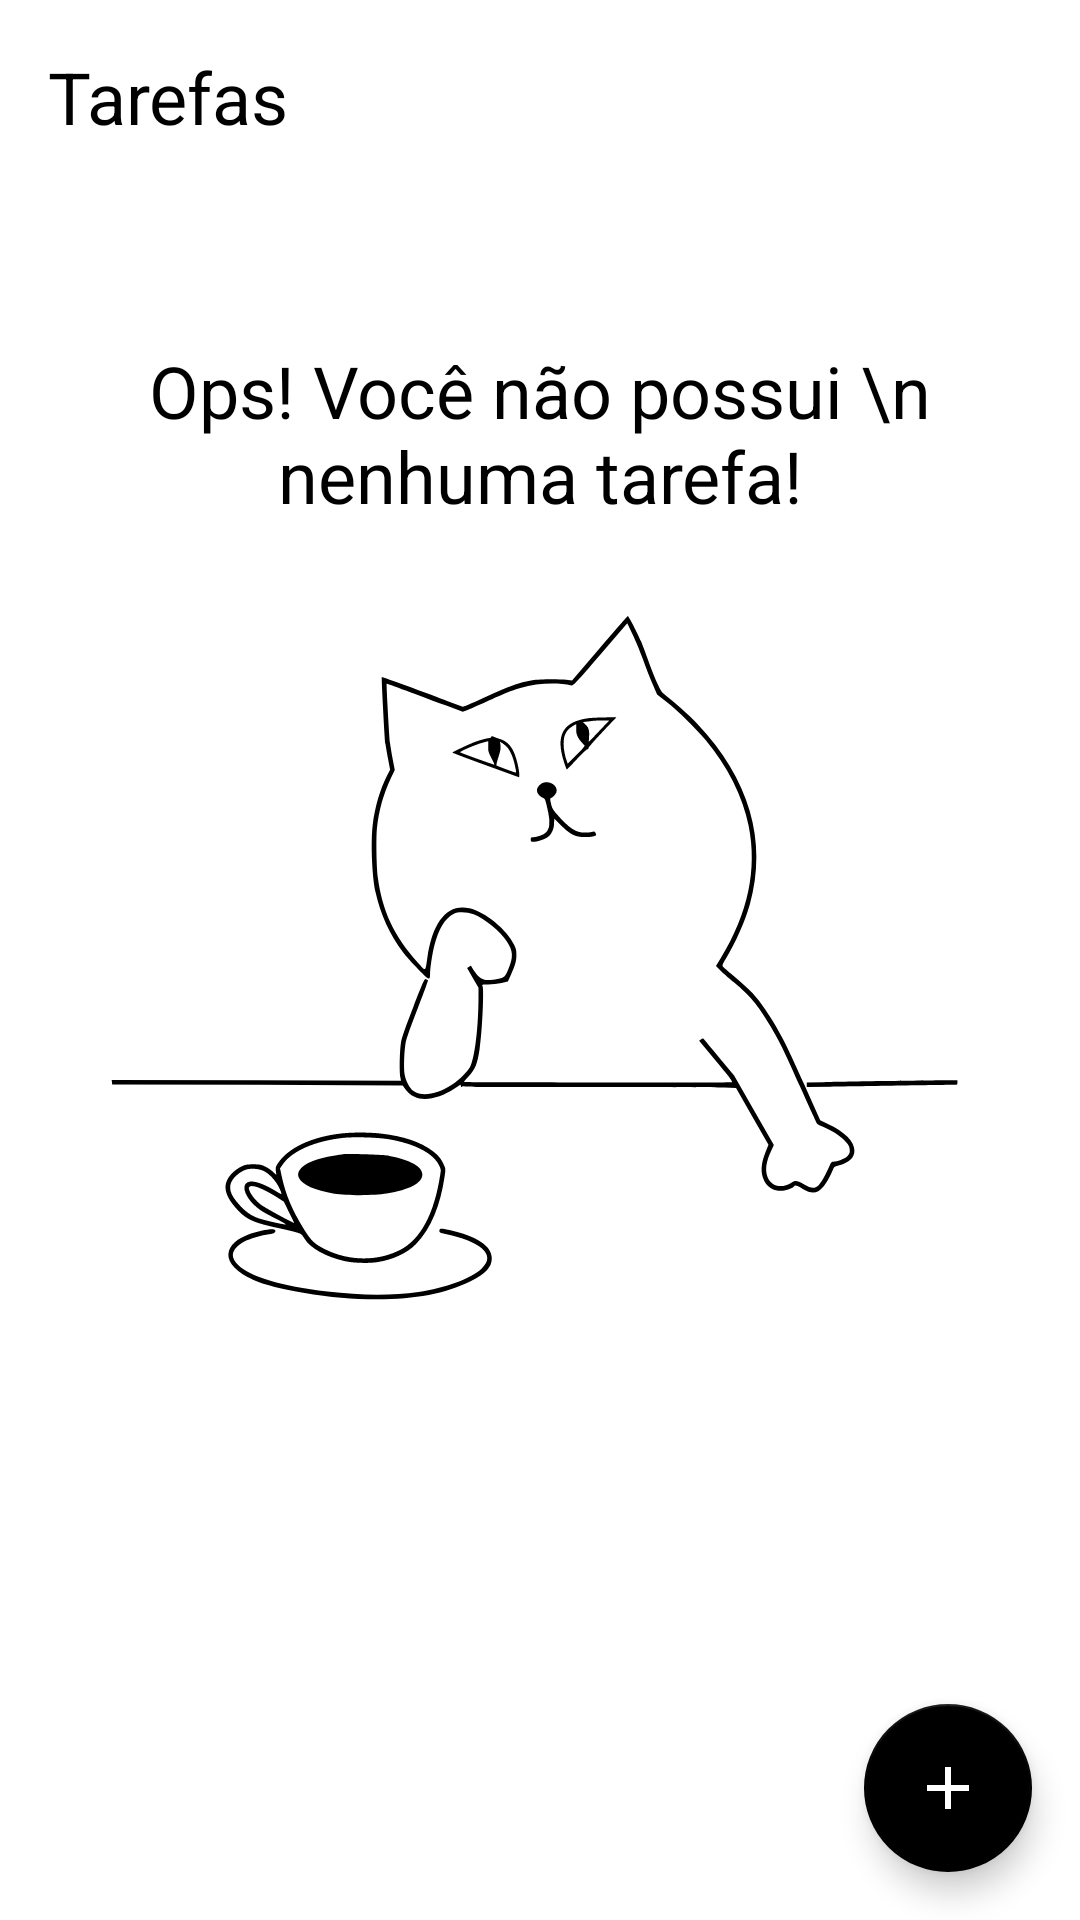

Locate icon controls on the screen. Image size 1080*1920, boxes as [left=x1, top=y1, right=x2, bottom=y2].
Nova Tarefa: [left=864, top=1704, right=1032, bottom=1872]
